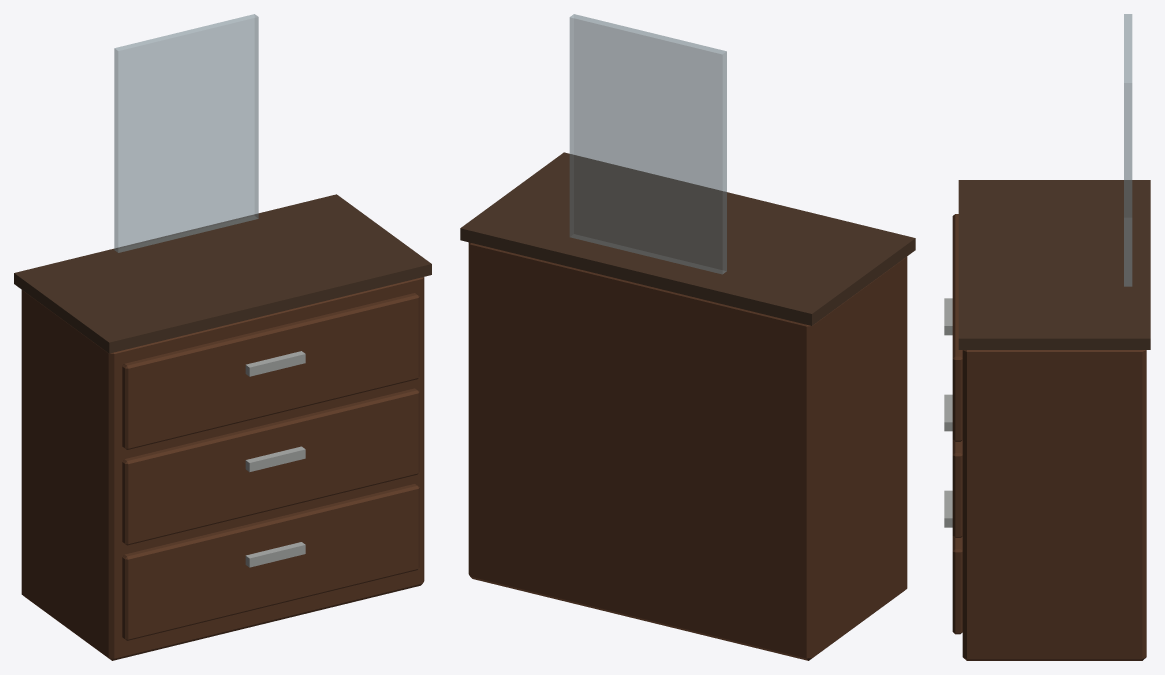
Rendered from dresser.glb.
3 renders of one model, left to right at view 1: azimuth 30°, elevation 25°; view 2: azimuth 150°, elevation 25°; view 3: azimuth 270°, elevation 25°, orthographic. The views are drawn at different scales.
Parts seen in each view (by area): view 1: Dresser, anim_drawer_3, anim_drawer_2, anim_drawer_1; view 2: Dresser; view 3: Dresser, anim_drawer_3, anim_drawer_1, anim_drawer_2.
Boxes of the visible parts, <box> form: Dresser: <box>14,14,431,660</box>; anim_drawer_3: <box>122,293,419,449</box>; anim_drawer_2: <box>122,388,419,545</box>; anim_drawer_1: <box>122,484,419,640</box>; Dresser: <box>460,14,915,660</box>; Dresser: <box>958,14,1150,660</box>; anim_drawer_3: <box>944,214,962,441</box>; anim_drawer_1: <box>944,490,962,634</box>; anim_drawer_2: <box>944,394,962,537</box>.
Size of the model in its own units: 0.92 by 1.45 by 0.505.
